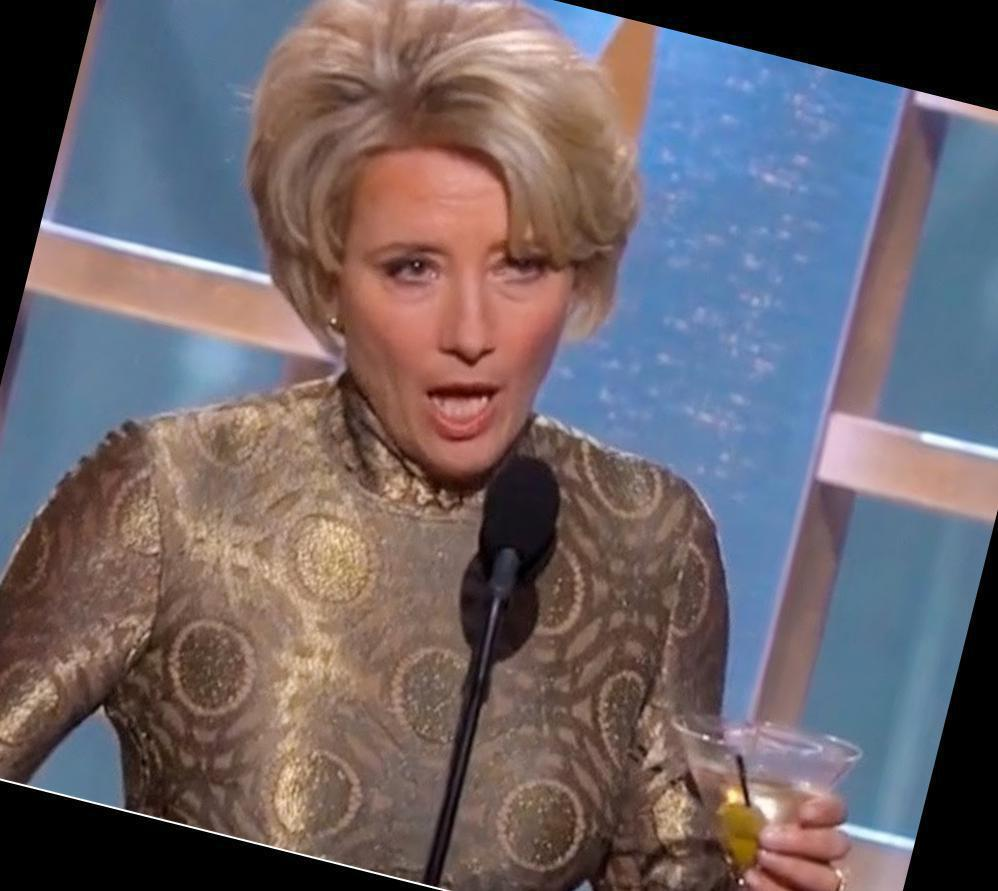Drunk: (351, 148, 557, 473)
